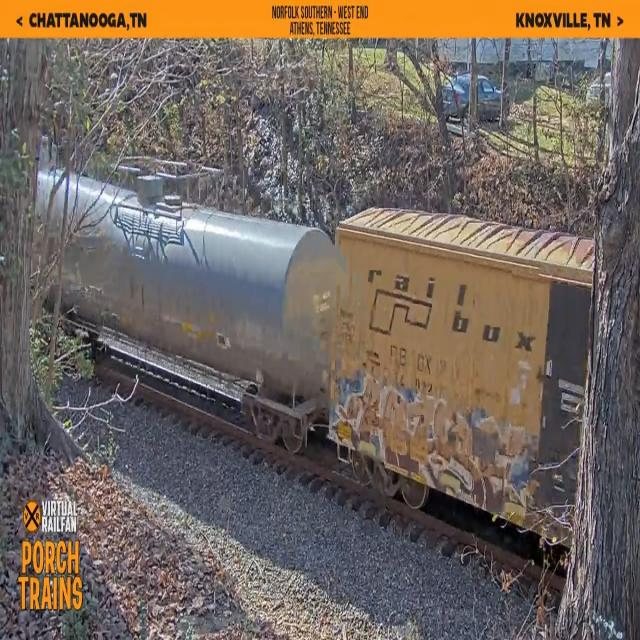tank: (327, 192, 585, 566), (41, 154, 332, 472)
